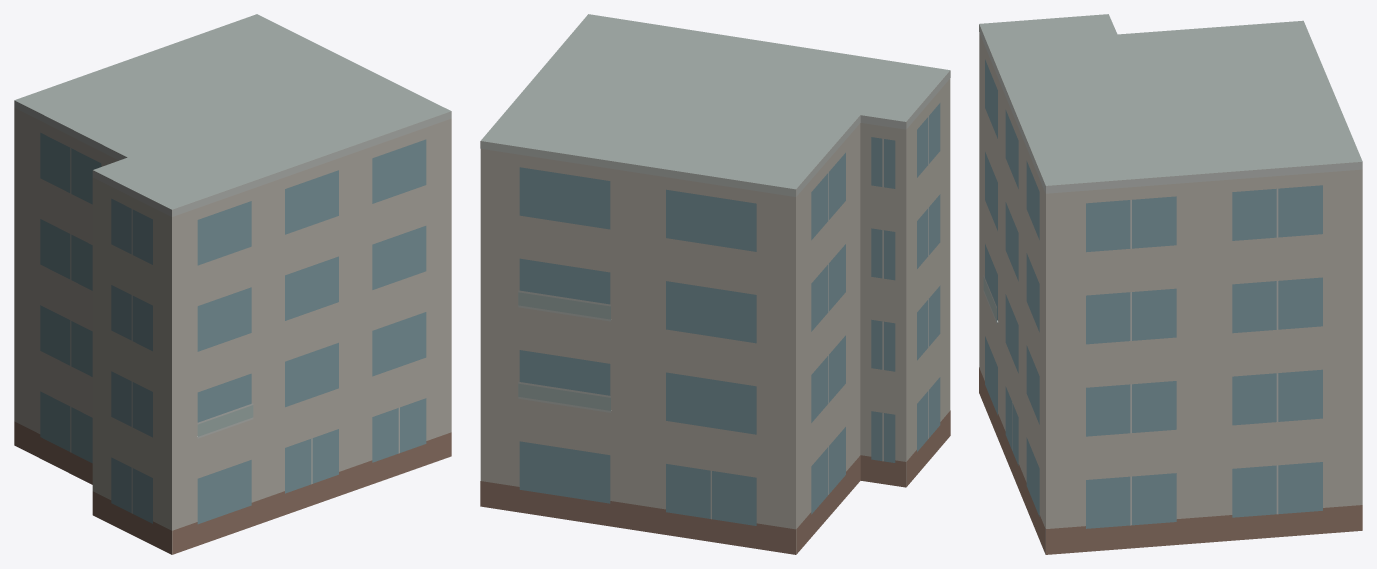
File: survey-upis-32908962.glb
3 renders of one model, left to right at view 1: azimuth 30°, elevation 25°; view 2: azimuth 150°, elevation 25°; view 3: azimuth 270°, elevation 25°, orthographic. The views are drawn at different scales.
Visible parts, largest first — view 1: survey-upis-32908962.tmp; view 2: survey-upis-32908962.tmp; view 3: survey-upis-32908962.tmp.
Part boxes in pixels (x1=…): survey-upis-32908962.tmp: x1=14, y1=14, x2=451, y2=554; survey-upis-32908962.tmp: x1=480, y1=14, x2=950, y2=554; survey-upis-32908962.tmp: x1=979, y1=14, x2=1362, y2=554.
Size of the model in its own units: 11.53 by 11.53 by 10.88.
